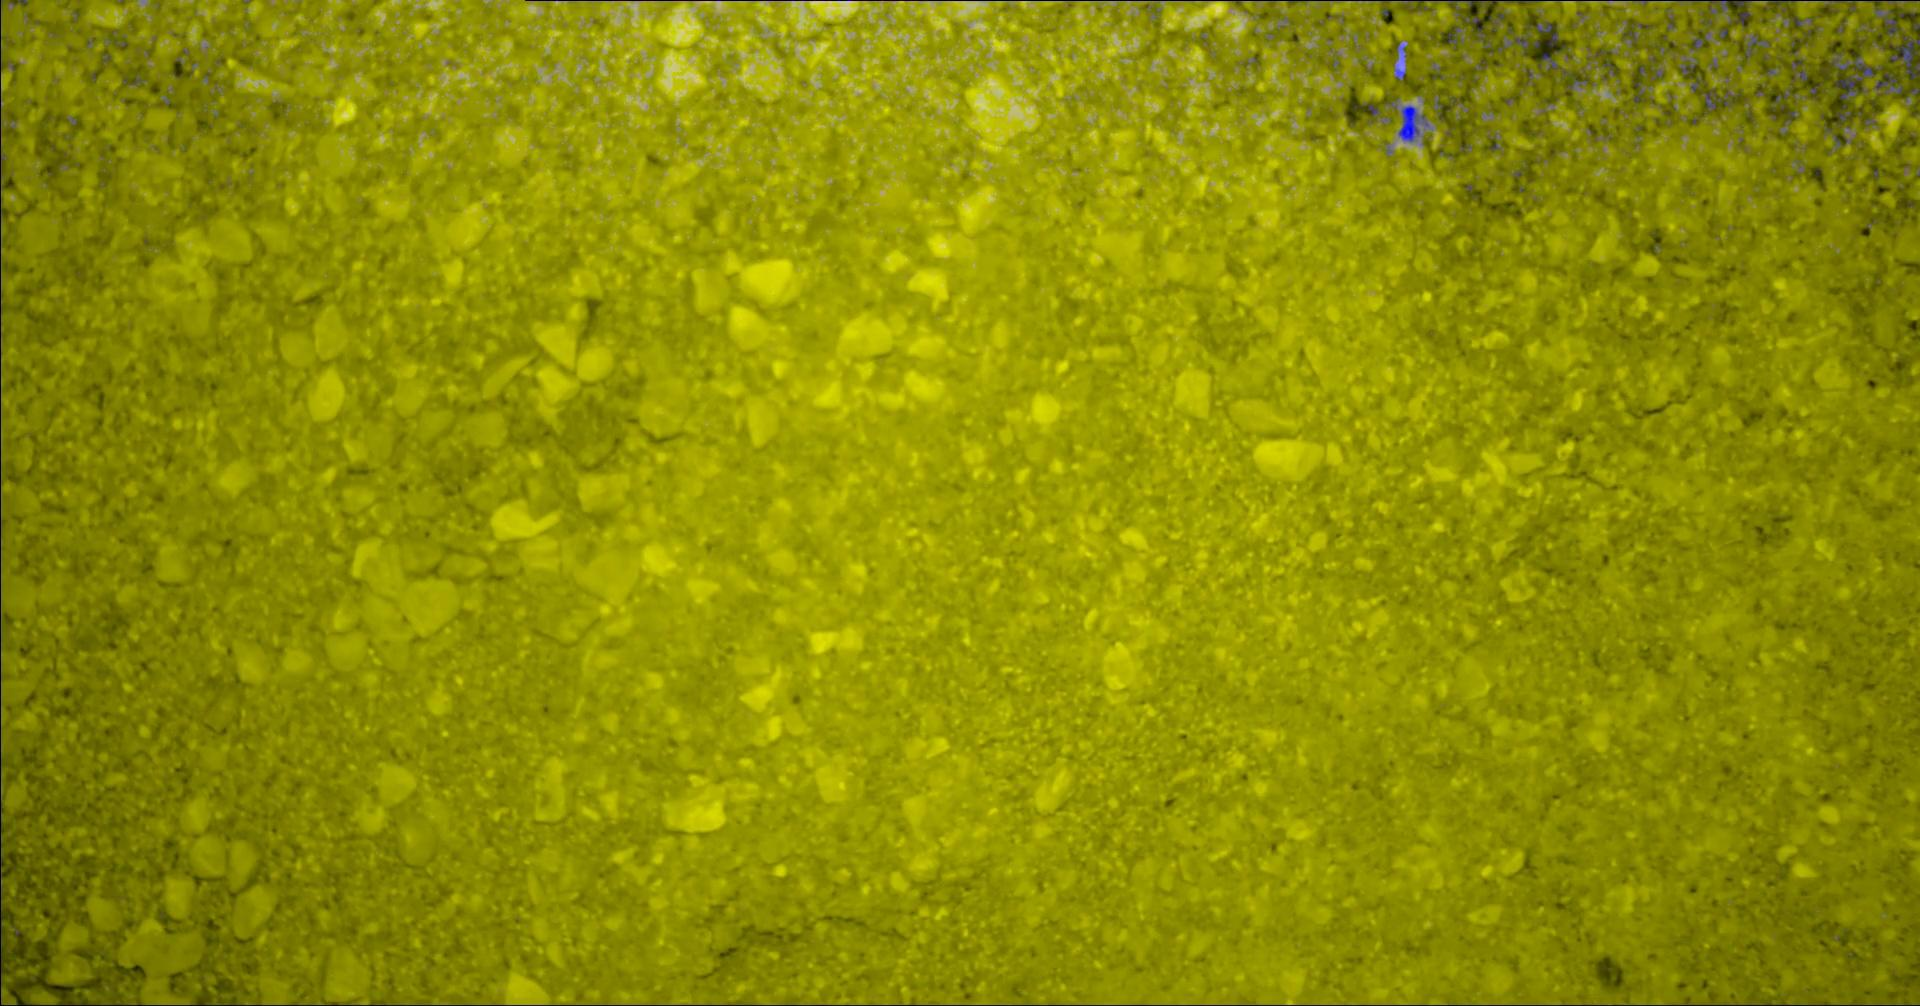ant: (1829, 51, 1873, 99), (1890, 36, 1919, 77), (1397, 105, 1429, 141), (1524, 22, 1557, 46), (1704, 88, 1735, 109), (1743, 36, 1770, 58), (1707, 0, 1750, 13), (1876, 72, 1902, 93), (1462, 17, 1484, 39), (1836, 103, 1860, 124), (1865, 0, 1896, 17), (1622, 23, 1648, 41), (1884, 10, 1901, 36), (1790, 58, 1807, 81), (1693, 32, 1707, 50), (1775, 90, 1789, 108), (1515, 33, 1528, 52), (1542, 53, 1557, 69), (1448, 25, 1460, 43)
